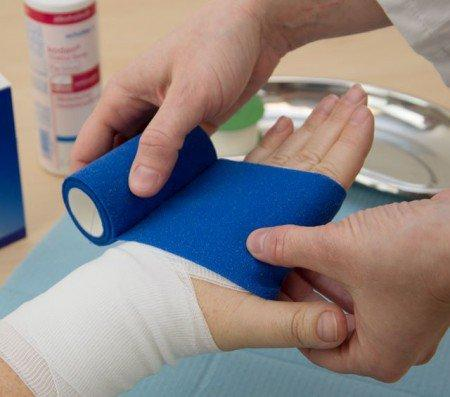bandage: (62, 115, 348, 301), (0, 229, 244, 397)
